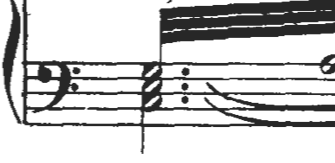bass_clef: (31, 53, 82, 119)
